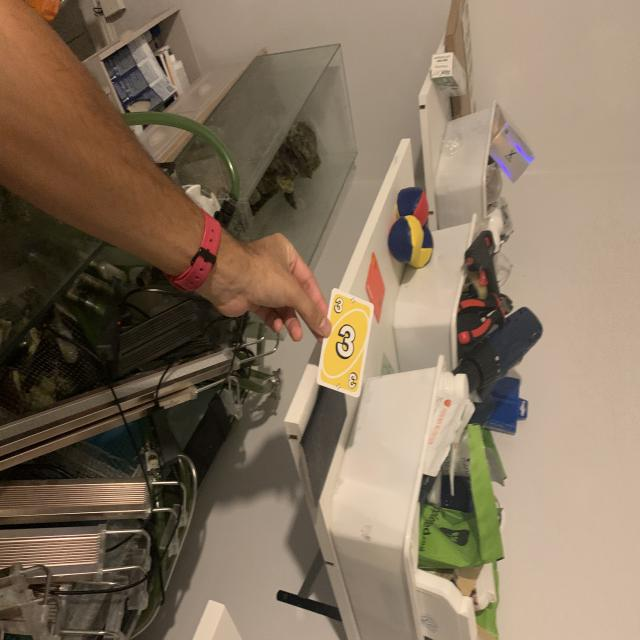lyellow-3: (332, 295, 346, 316)
